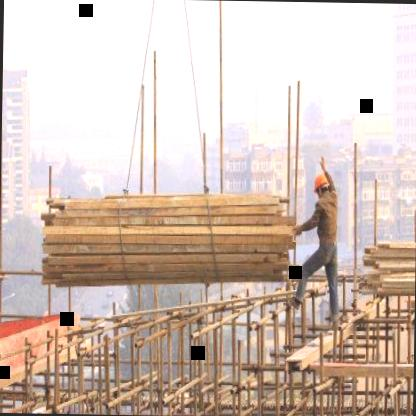helmet: (312, 172, 332, 198)
